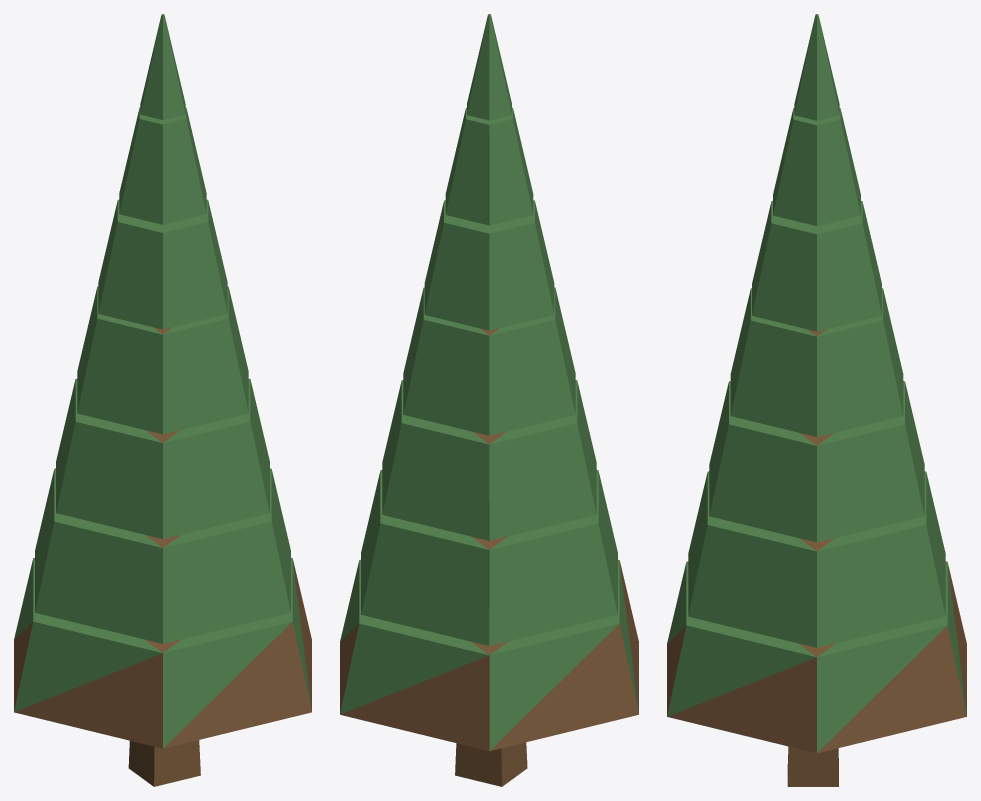
The model's file is tree3d-161.glb.
3 views of the same model, side by side, from view 1: azimuth 30°, elevation 25°; view 2: azimuth 150°, elevation 25°; view 3: azimuth 270°, elevation 25° (orthographic).
Parts seen in each view (by area): view 1: tree3d-161; view 2: tree3d-161; view 3: tree3d-161.
Part boxes in pixels (box(x1,y1,x2,y2)): tree3d-161: box(14, 14, 311, 786); tree3d-161: box(340, 14, 638, 786); tree3d-161: box(667, 14, 966, 786).
Size of the model in its own units: 0.4125 by 1 by 0.3572.
